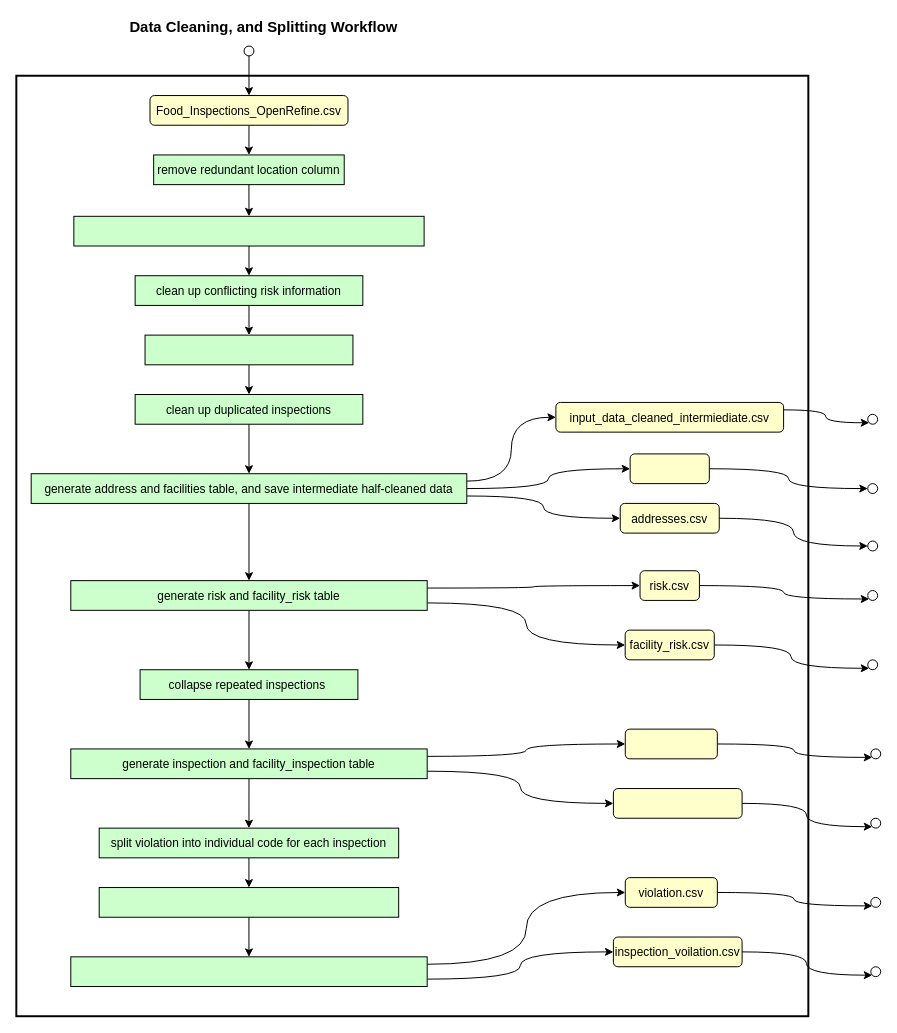
Image size: 897x1033. Some labels were removed from this diagram. Here are the shapes that lost their labels. From the top down, the centre of each, then its label:
[248,230]: clean up address variations and incorrect/missing city/zip/state
[248,349]: clean up violation result conflictions
[669,468]: facilities.csv
[670,743]: inspections.csv
[677,803]: facility_inspection.csv
[248,902]: split violation code, description, and comment
[248,971]: generate violation and inspection_violation table
